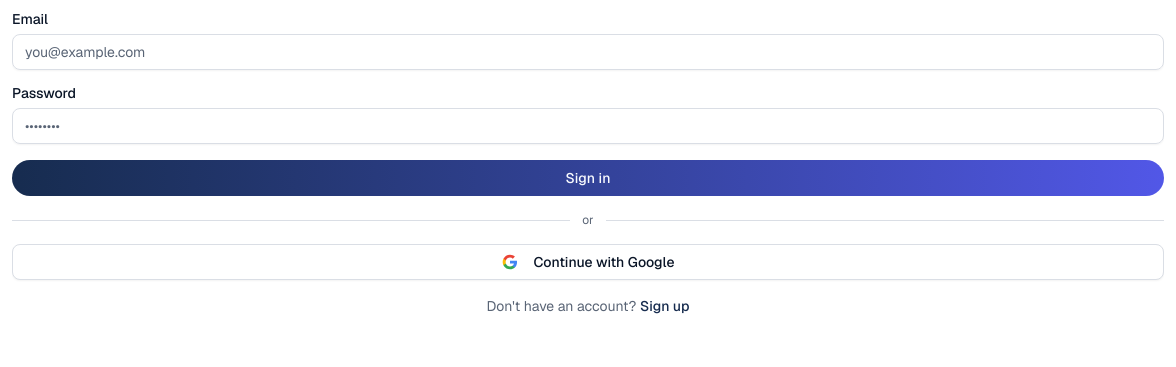
Test: LoginForm › displays error message on failed sign in
In the field labelled "Email": (588, 52) [12,34,1164,70], type "test@example.com"
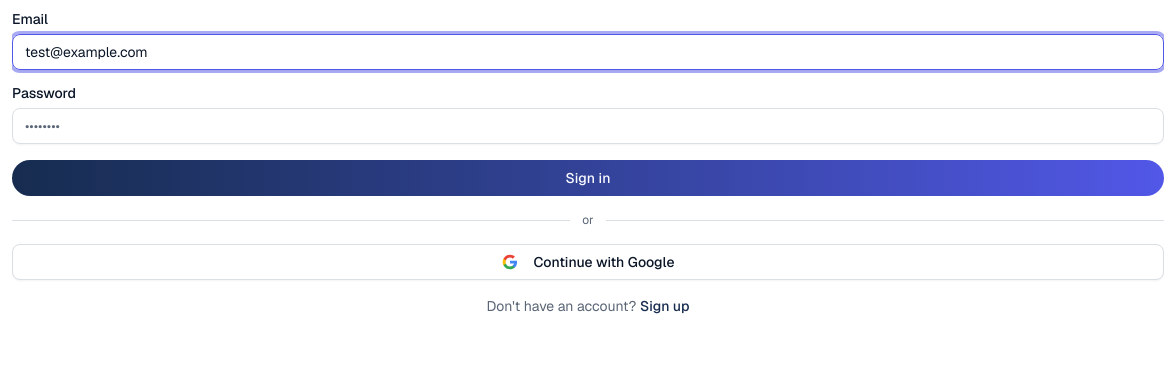
In the password field labelled "Password": (588, 126) [12,108,1164,144], type "wrong"
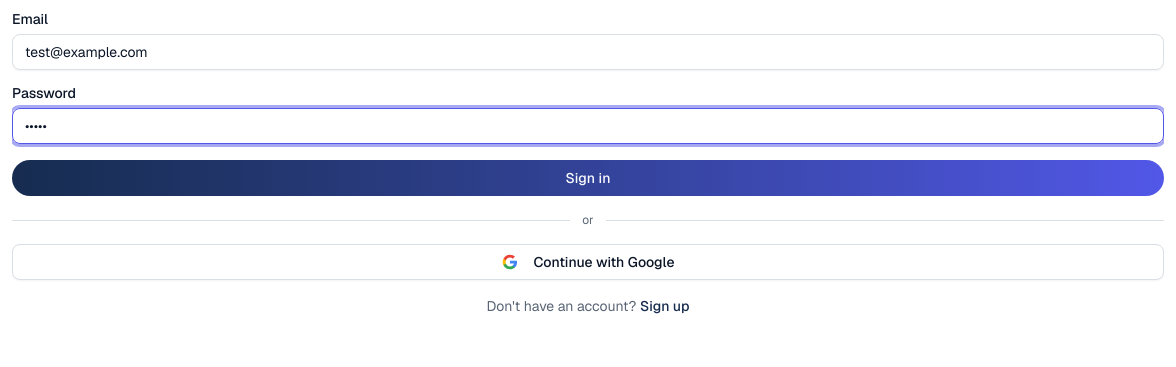
Click the button "Sign in": click(588, 178) [12,160,1164,196]
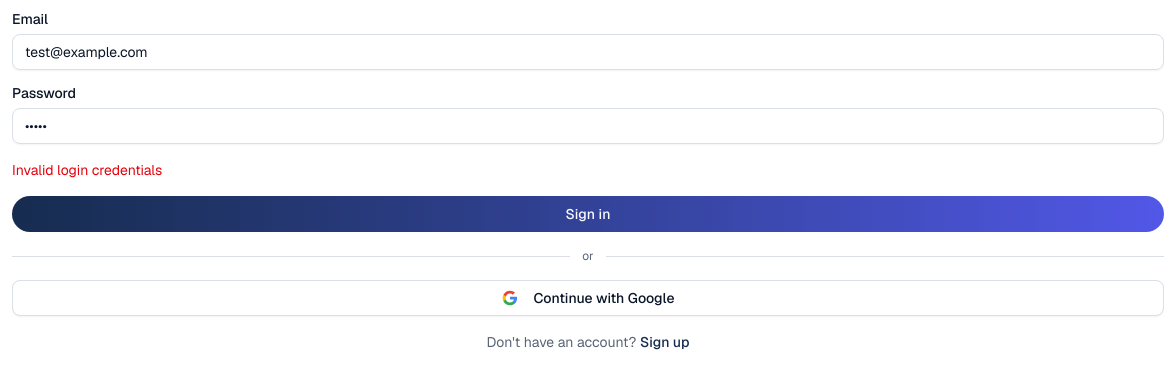
Now the text "Invalid login credentials" is shown, box [12,161,162,179]
